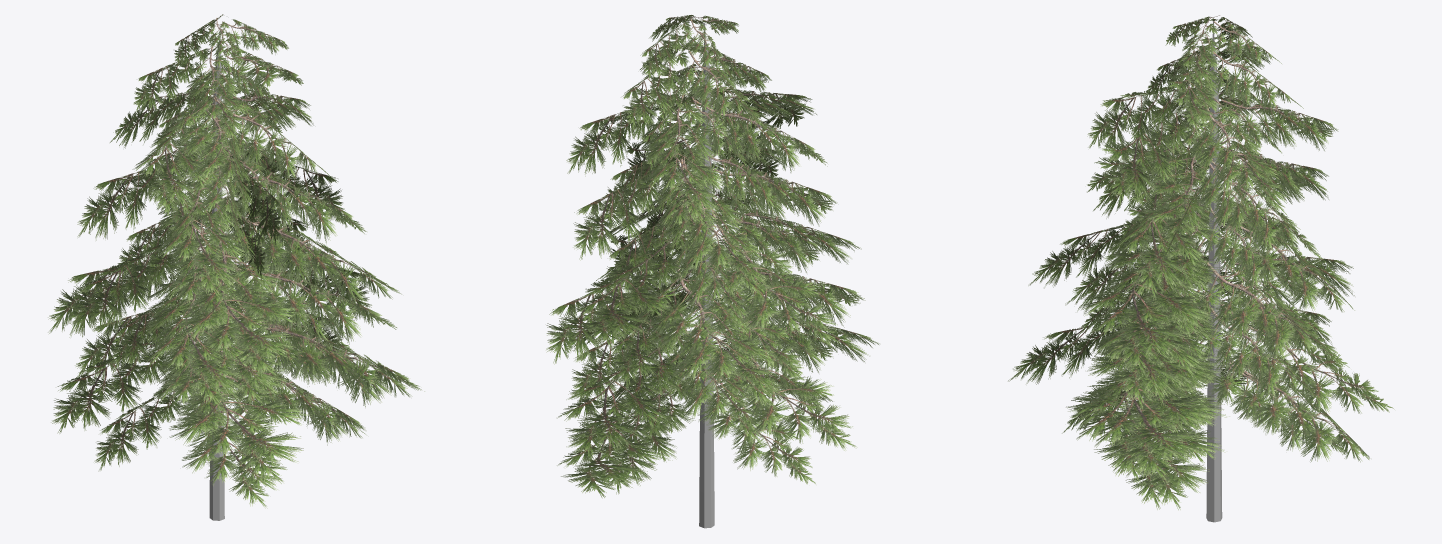
File: Tree.fbx
The picture shows the model from 3 angles, left to right: view 1: azimuth 30°, elevation 25°; view 2: azimuth 150°, elevation 25°; view 3: azimuth 270°, elevation 25°; orthographic projection.
Visible parts, largest first — view 1: polySurface12; view 2: polySurface12; view 3: polySurface12.
Part boxes in pixels (x1=…): polySurface12: x1=48, y1=14, x2=424, y2=520; polySurface12: x1=546, y1=15, x2=879, y2=528; polySurface12: x1=1008, y1=15, x2=1394, y2=522.
Bounding box in the file's own units: 9.2 × 12.45 × 9.9.
